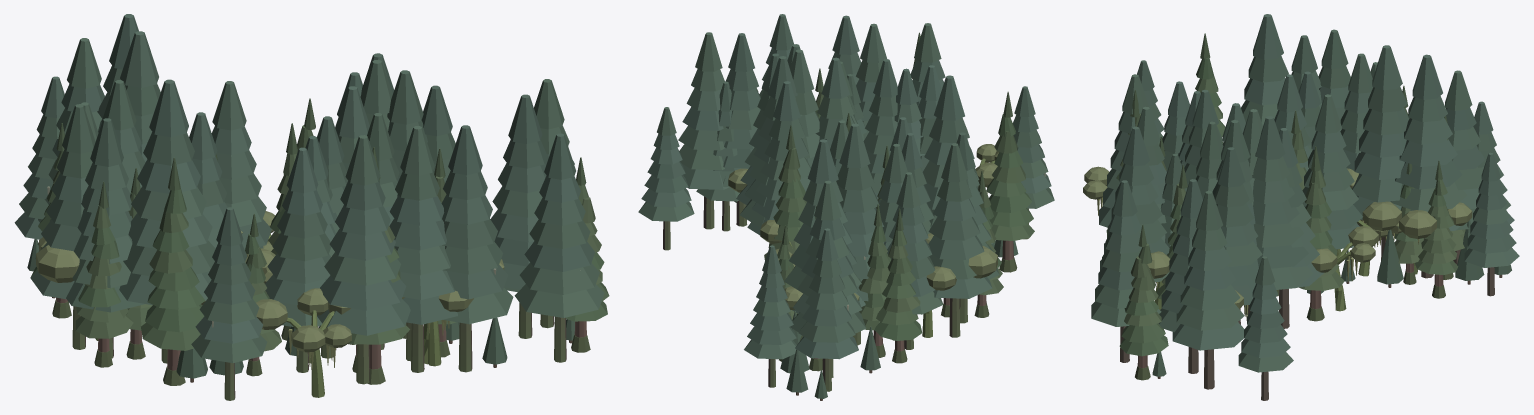
The model's file is Mist_Forest_0_0.fbx.
The picture shows the model from 3 angles, left to right: view 1: azimuth 30°, elevation 25°; view 2: azimuth 150°, elevation 25°; view 3: azimuth 270°, elevation 25°; orthographic projection. The views are drawn at different scales.
Parts seen in each view (by area): view 1: Mist_Forest_0_0; view 2: Mist_Forest_0_0; view 3: Mist_Forest_0_0.
Part boxes in pixels (bbox=[...]): Mist_Forest_0_0: bbox=[14, 14, 609, 400]; Mist_Forest_0_0: bbox=[638, 14, 1054, 400]; Mist_Forest_0_0: bbox=[1083, 14, 1519, 400].
Bounding box in the file's own units: 44.33 × 26.98 × 43.4.
